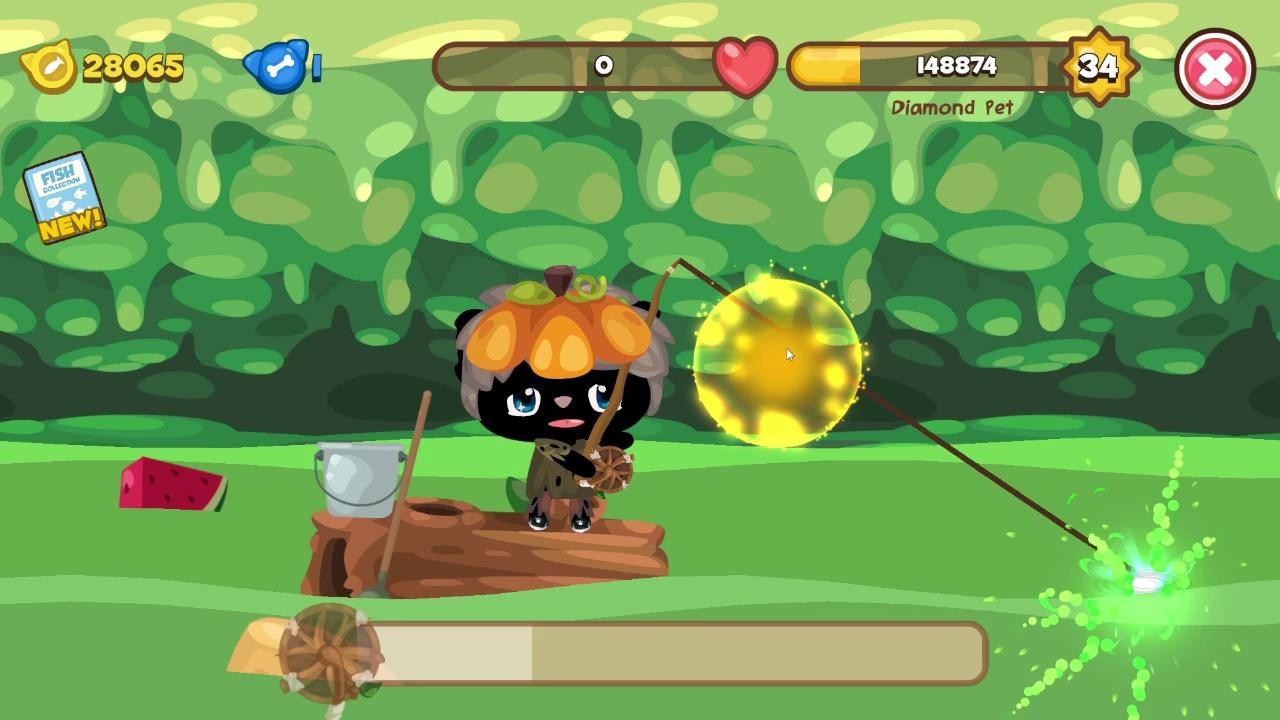point: (691, 274, 868, 451)
